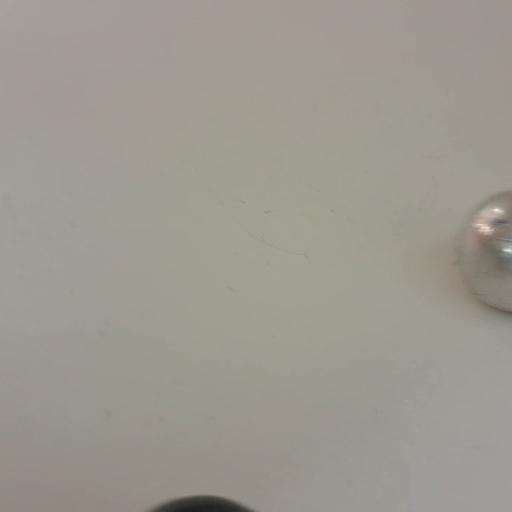alive: (457, 187, 511, 313)
dead: (144, 494, 252, 512)
